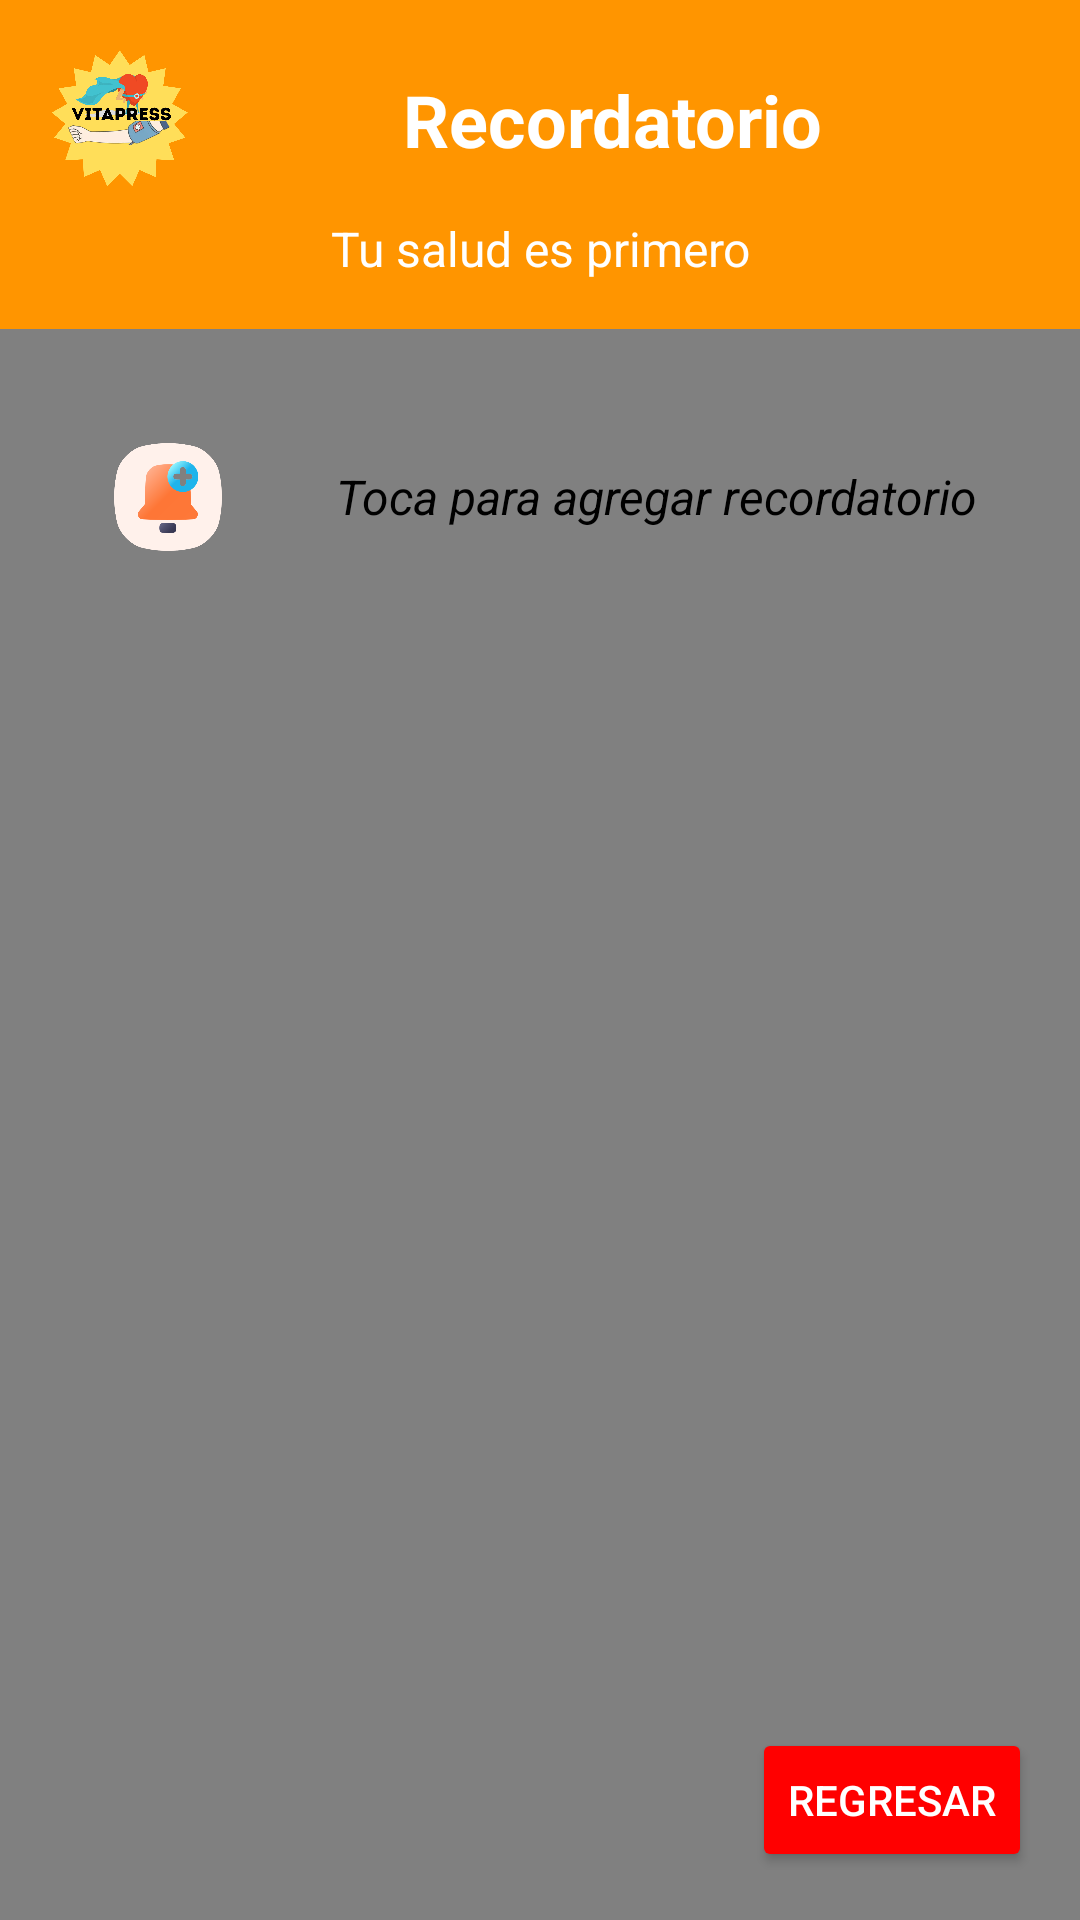

Point at icon controls on the screen. Image size 1080*1920, points as (x,y).
Imagen Recordatorio: (168,497)
